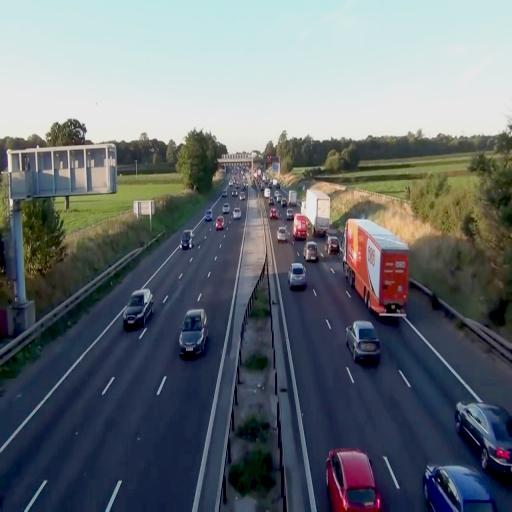vehicle: (343, 214, 410, 318), (344, 213, 410, 316), (455, 401, 512, 480), (423, 463, 498, 511), (325, 447, 381, 511), (346, 320, 381, 363), (178, 308, 208, 356), (122, 289, 154, 332), (289, 261, 307, 289), (293, 214, 311, 240), (303, 242, 320, 262), (277, 226, 291, 243), (181, 230, 193, 249), (215, 215, 225, 232), (232, 206, 242, 220), (270, 205, 278, 219), (205, 210, 213, 220)
